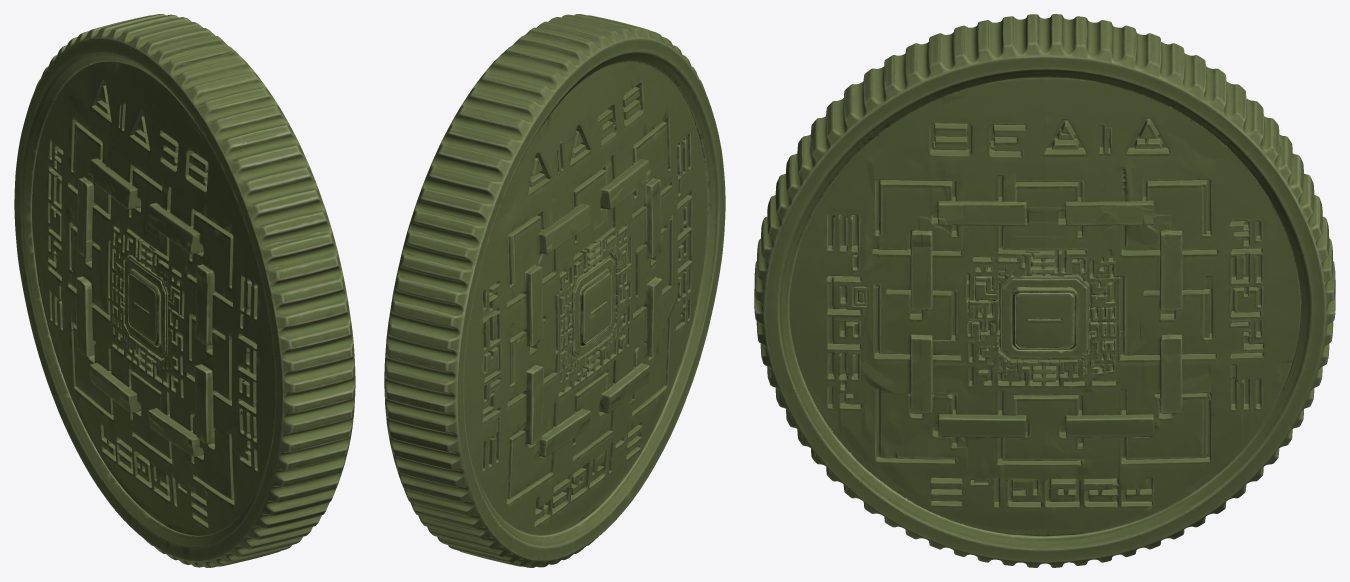
File: green-coin-web_1.glb
3 renders of one model, left to right at view 1: azimuth 30°, elevation 25°; view 2: azimuth 150°, elevation 25°; view 3: azimuth 270°, elevation 25°, orthographic. The views are drawn at different scales.
Parts seen in each view (by area): view 1: tripo_node_9667efe0-f8a4-4168-9431-88de881e6992; view 2: tripo_node_9667efe0-f8a4-4168-9431-88de881e6992; view 3: tripo_node_9667efe0-f8a4-4168-9431-88de881e6992.
Part boxes in pixels (box(x1,y1,x2,y2)): tripo_node_9667efe0-f8a4-4168-9431-88de881e6992: box(14, 14, 355, 567); tripo_node_9667efe0-f8a4-4168-9431-88de881e6992: box(384, 14, 725, 567); tripo_node_9667efe0-f8a4-4168-9431-88de881e6992: box(754, 14, 1335, 567).
Size of the model in its own units: 0.1903 by 0.9799 by 0.9798.
Materials: 1 (1 with a texture image).
